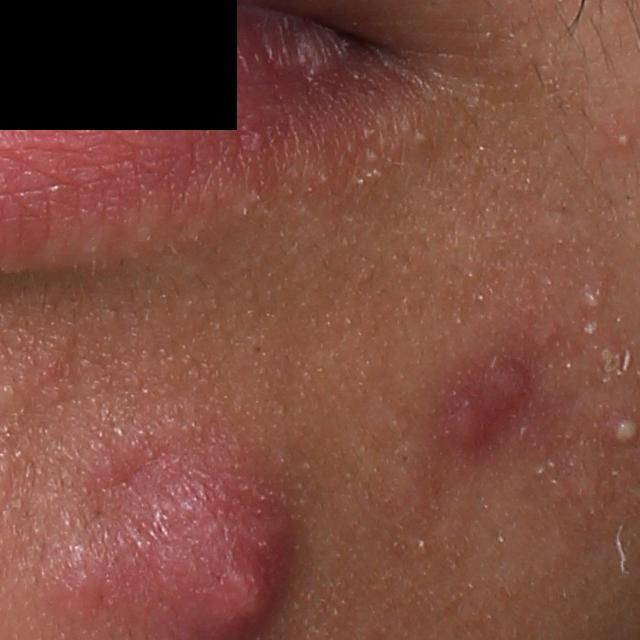comedo: (582, 286, 602, 311)
papule: (442, 401, 492, 449), (485, 363, 529, 416)
pustule: (614, 127, 636, 150)
